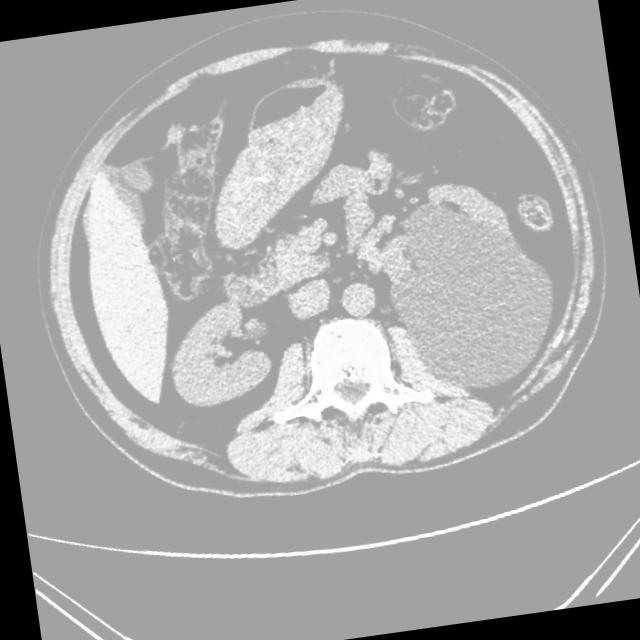cysts: (15, 1, 625, 524)
